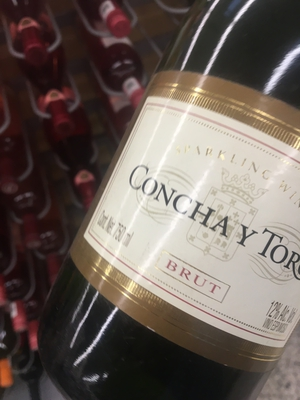brut: (73, 30, 300, 397)
